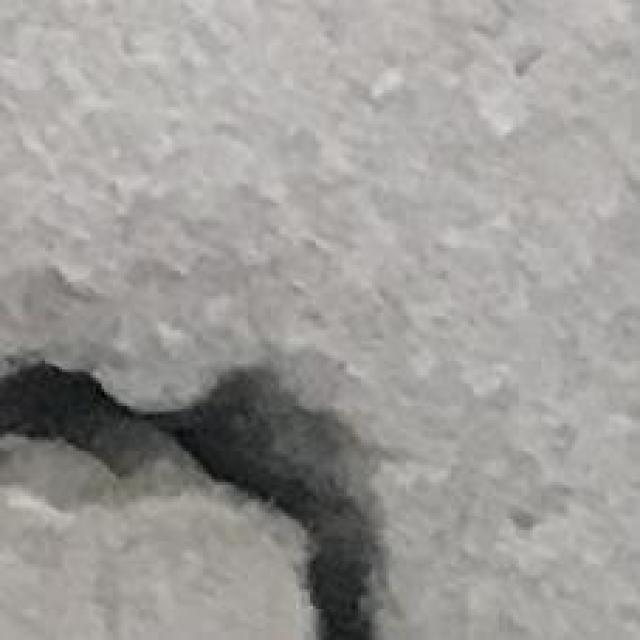Crack: (3, 313, 409, 640)
